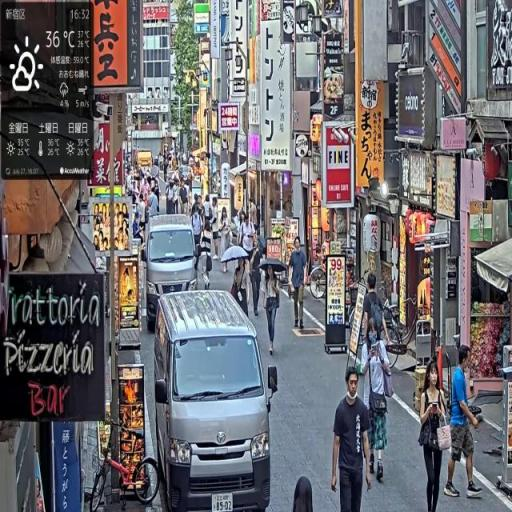person: (443, 345, 484, 501), (330, 366, 373, 512), (360, 329, 395, 483), (417, 357, 451, 512), (263, 263, 284, 360), (288, 237, 308, 332), (292, 479, 315, 512)
